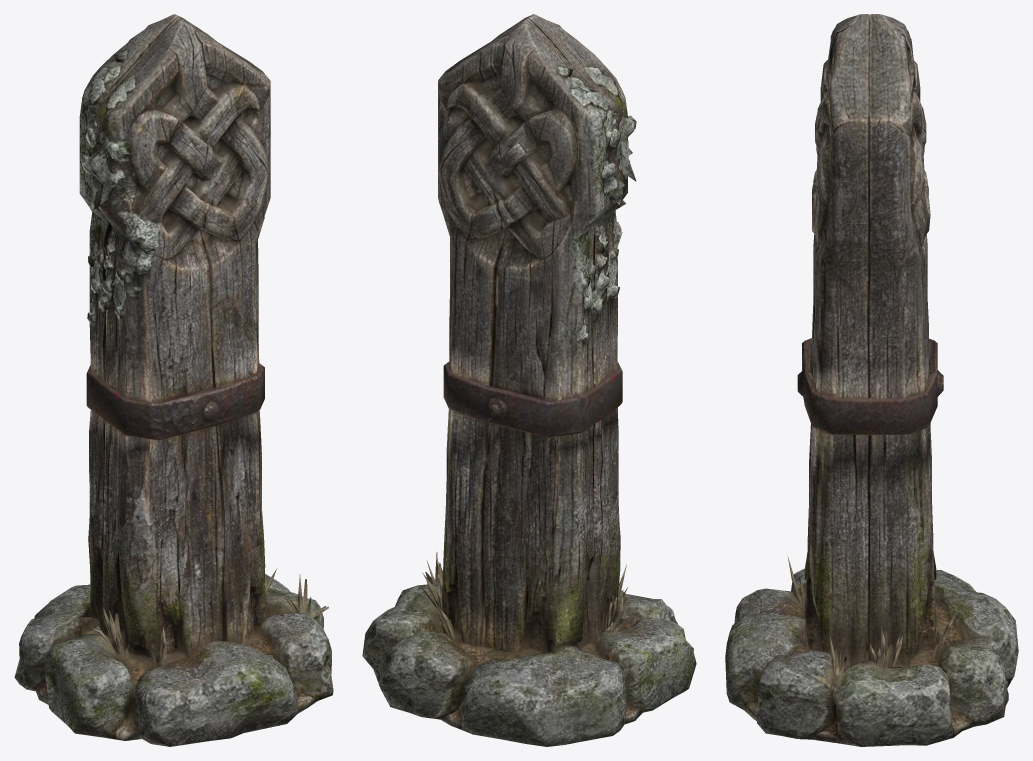
Rendered from kit_lw_kin_post.glb.
3 views of the same model, side by side, from view 1: azimuth 30°, elevation 25°; view 2: azimuth 150°, elevation 25°; view 3: azimuth 270°, elevation 25° (orthographic).
Visible parts, largest first — view 1: kit_lw_kin_post; view 2: kit_lw_kin_post; view 3: kit_lw_kin_post.
Part boxes in pixels (box(x1,y1,x2,y2)): kit_lw_kin_post: box(14, 14, 333, 746); kit_lw_kin_post: box(362, 14, 696, 746); kit_lw_kin_post: box(725, 14, 1018, 746).
Bounding box in the file's own units: 0.4839 × 1.15 × 0.4568.
Materials: 1 (1 with a texture image).
